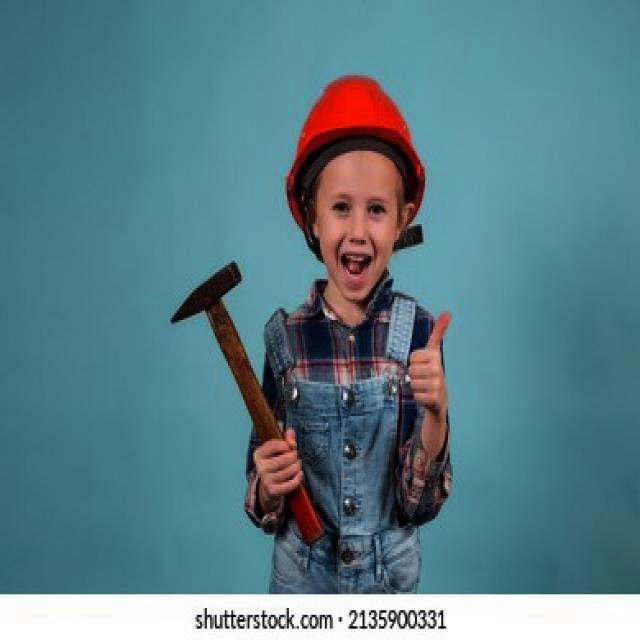hammer: (168, 260, 328, 570)
